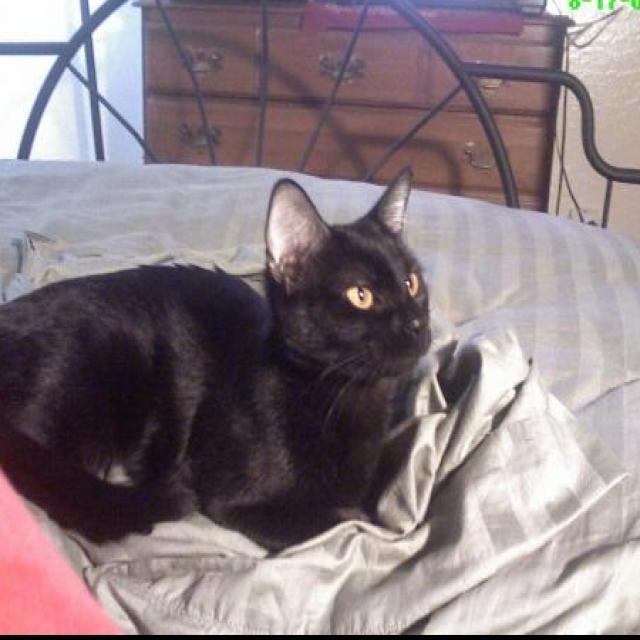Bombay: (0, 156, 435, 558)
